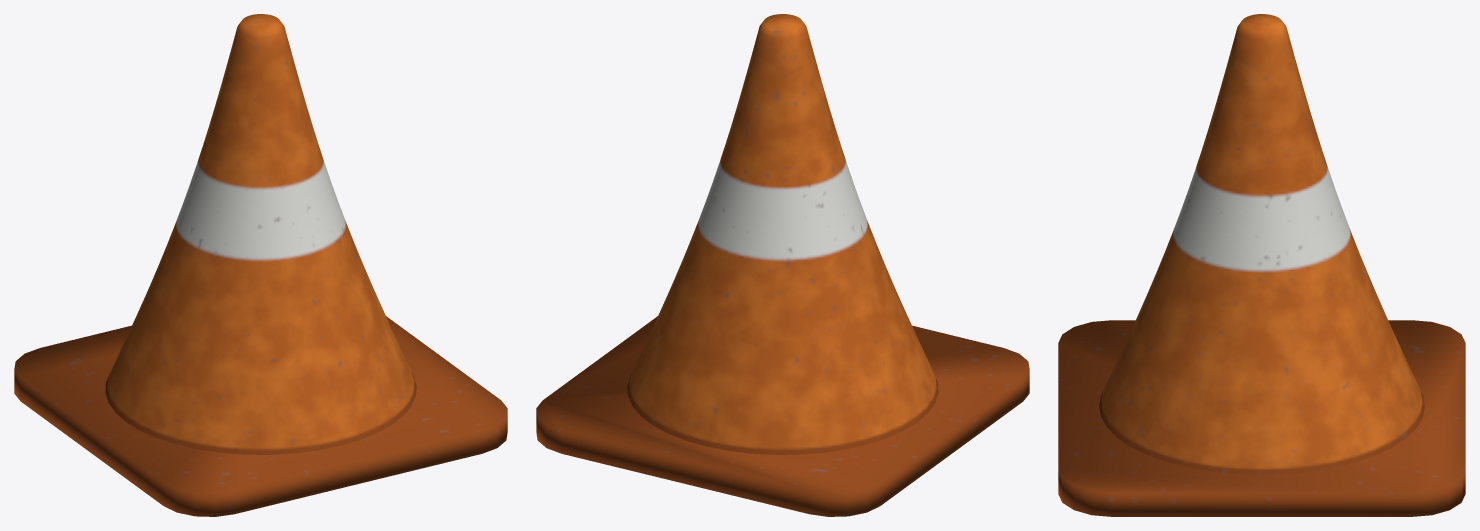
The picture shows the model from 3 angles, left to right: view 1: azimuth 30°, elevation 25°; view 2: azimuth 150°, elevation 25°; view 3: azimuth 270°, elevation 25°; orthographic projection. The views are drawn at different scales.
Visible parts, largest first — view 1: NH_Cone; view 2: NH_Cone; view 3: NH_Cone.
Part boxes in pixels (left/top/right/bottom): NH_Cone: left=14, top=14, right=507, bottom=516; NH_Cone: left=536, top=14, right=1029, bottom=516; NH_Cone: left=1058, top=14, right=1465, bottom=516.
Bounding box in the file's own units: 90 × 100 × 90.
